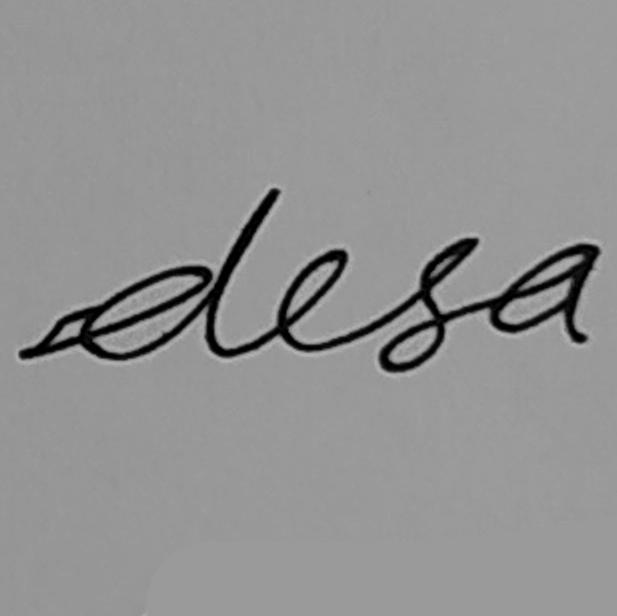a: (488, 240, 603, 345)
d: (73, 185, 281, 363)
e: (273, 244, 356, 361)
s: (374, 232, 481, 377)
